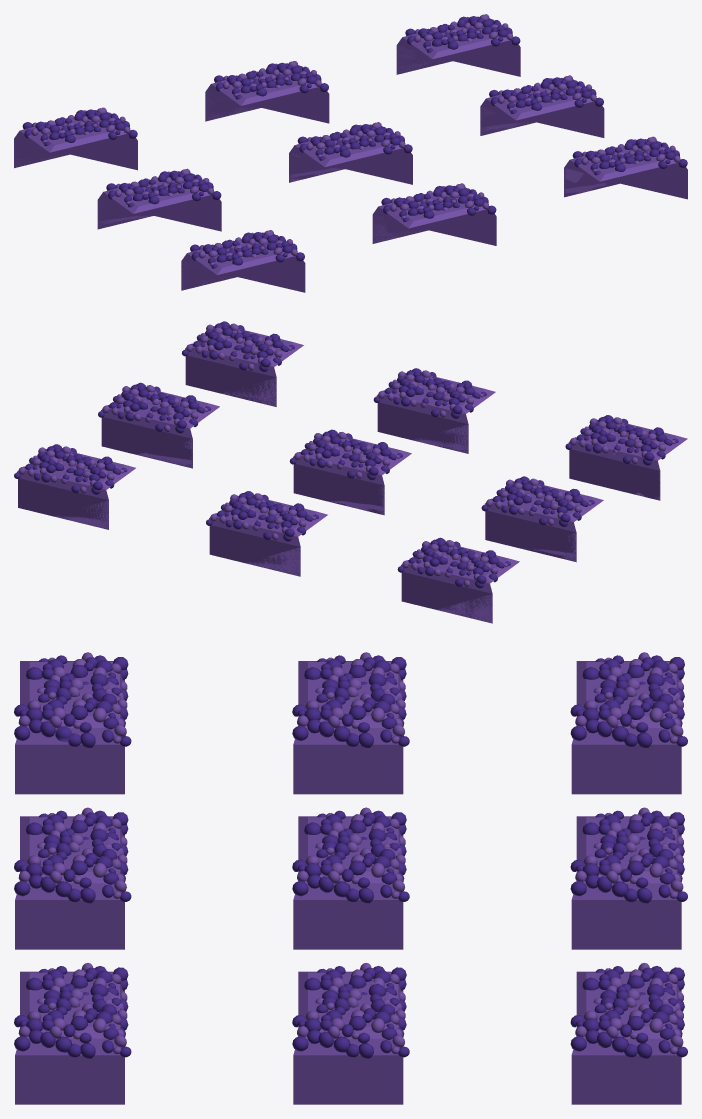
Rendered from Crategrapes.fbx.
3 views of the same model, one above another, from view 1: azimuth 30°, elevation 25°; view 2: azimuth 150°, elevation 25°; view 3: azimuth 270°, elevation 25° (orthographic). The views are drawn at different scales.
Visible parts, largest first — view 1: Crate-Grapes; view 2: Crate-Grapes; view 3: Crate-Grapes.
Boxes of the visible parts, x1,y1,x2,y2 form: Crate-Grapes: (14, 14, 687, 292); Crate-Grapes: (14, 321, 687, 623); Crate-Grapes: (14, 652, 687, 1104).
Size of the model in its own units: 162 by 15.17 by 119.
